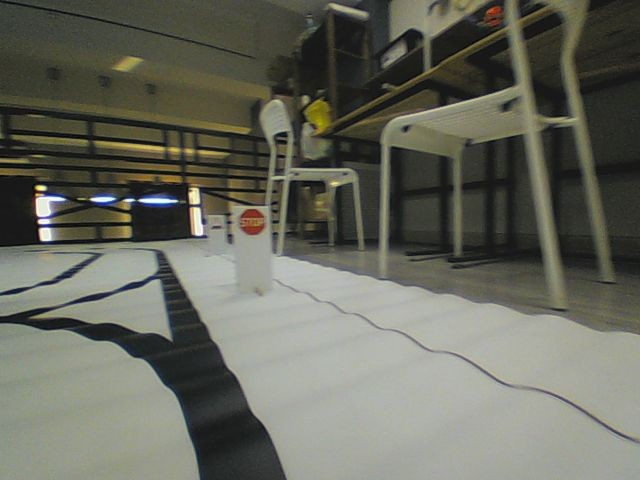Stop: (237, 207, 266, 236)
